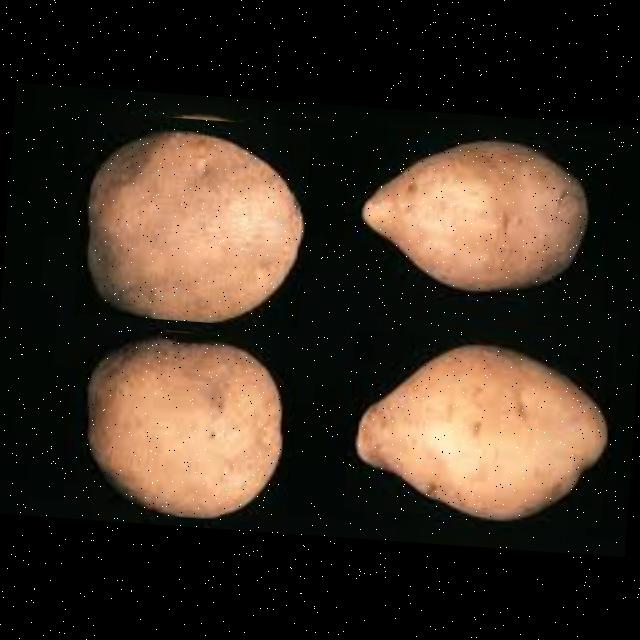Potato: (343, 331, 613, 528), (74, 112, 312, 328), (74, 326, 294, 524), (348, 132, 595, 304)
